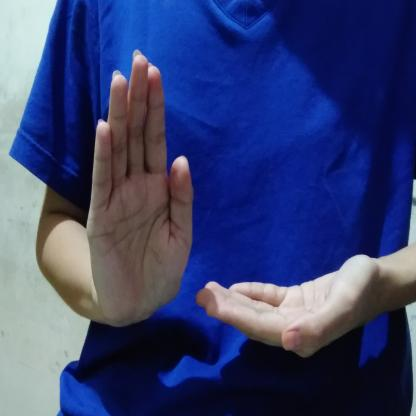hello: (78, 38, 386, 370)
